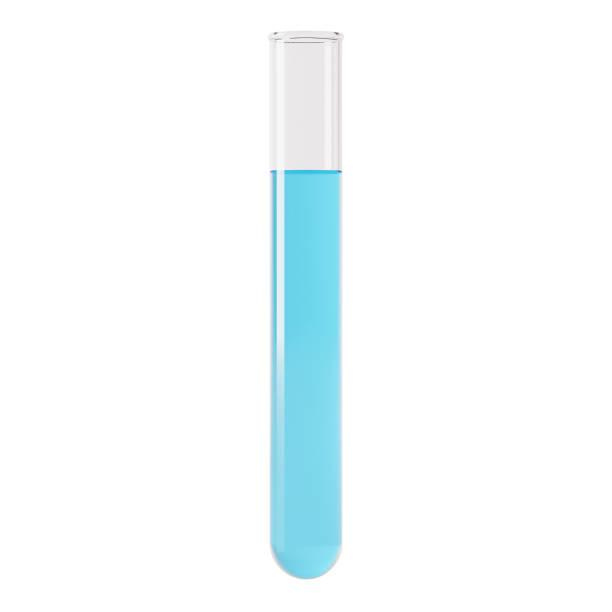Test tube: (269, 27, 349, 582)
